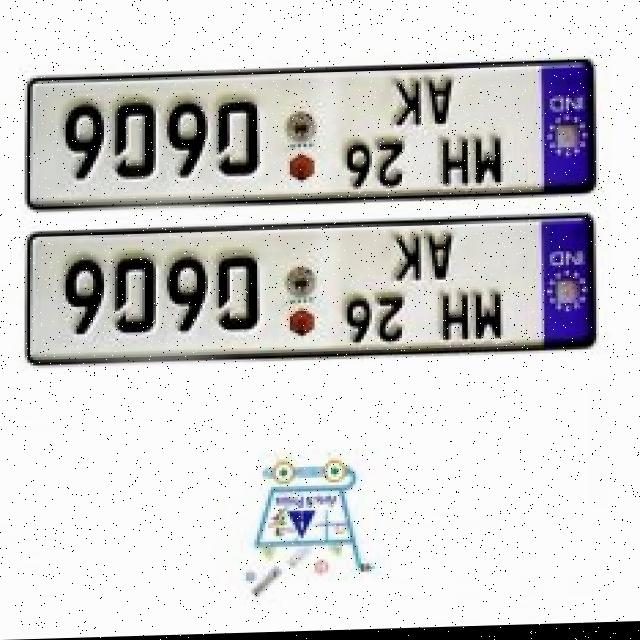plate: (26, 62, 595, 214), (22, 221, 602, 367)
